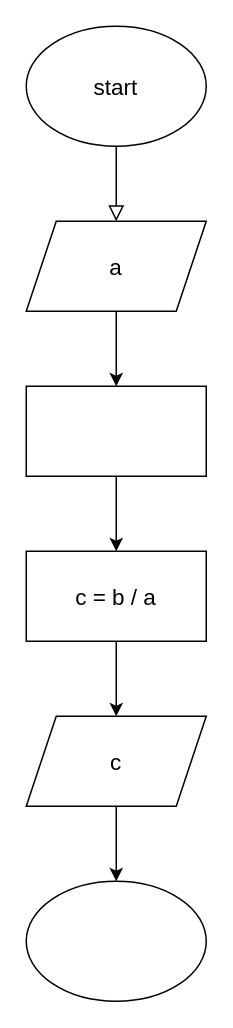
The diagram is 233 pixels wide and 1028 high, and some of its shapes have lost their labels. The centre of each missing label's shape, as x and y in pixels:
"b = 7 * 60" goes at [115,430].
"end" goes at [115,940].
